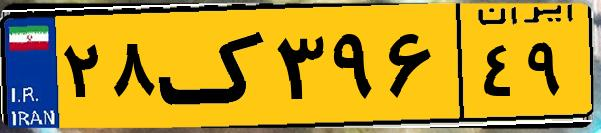2: (57, 26, 110, 100)
3: (270, 28, 330, 110)
4: (475, 38, 525, 113)
6: (385, 28, 445, 110)
8: (110, 28, 158, 98)
9: (330, 28, 385, 110), (525, 38, 570, 115)
ک: (158, 12, 270, 120)
